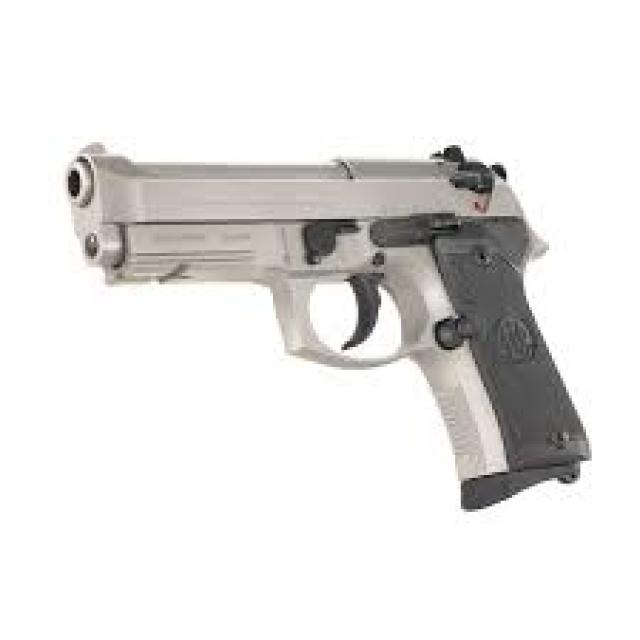pistol: (59, 137, 596, 516)
